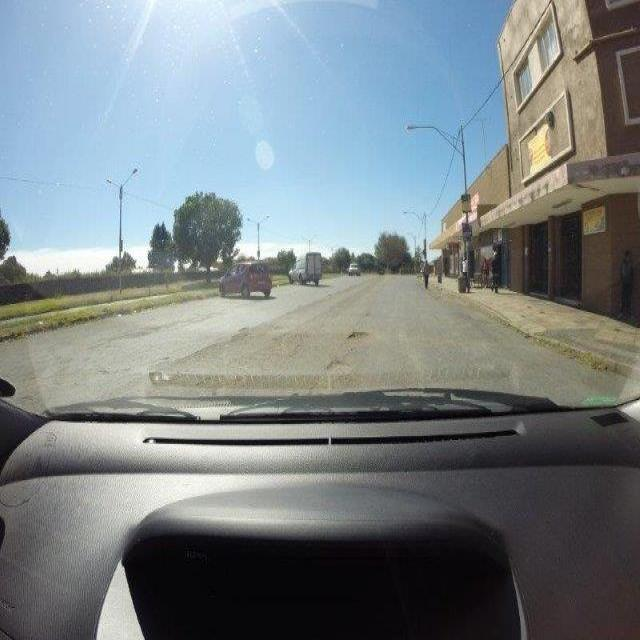lubang: (268, 332, 312, 356), (342, 325, 374, 344), (324, 356, 350, 375), (229, 326, 254, 343), (362, 310, 373, 320)
